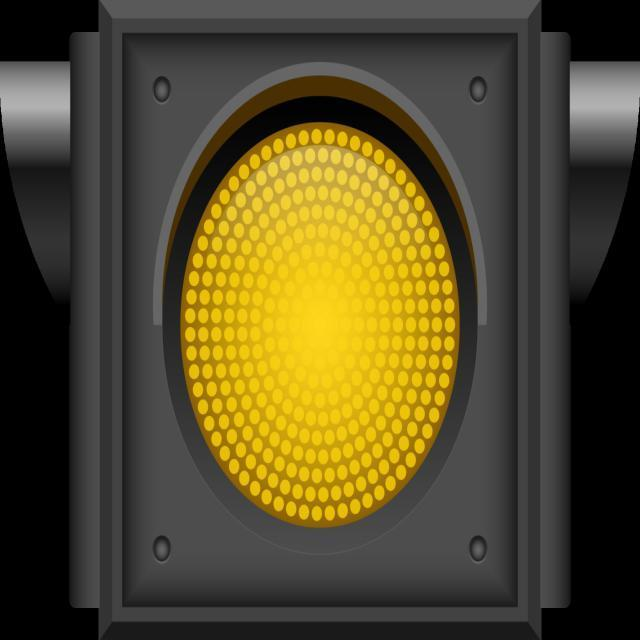yellow_light: (99, 0, 537, 636)
